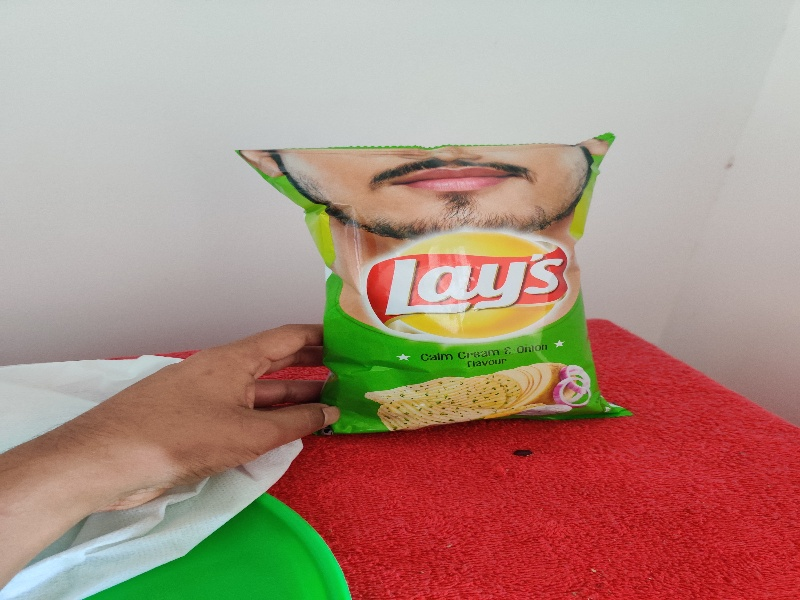lays: (220, 116, 659, 444)
